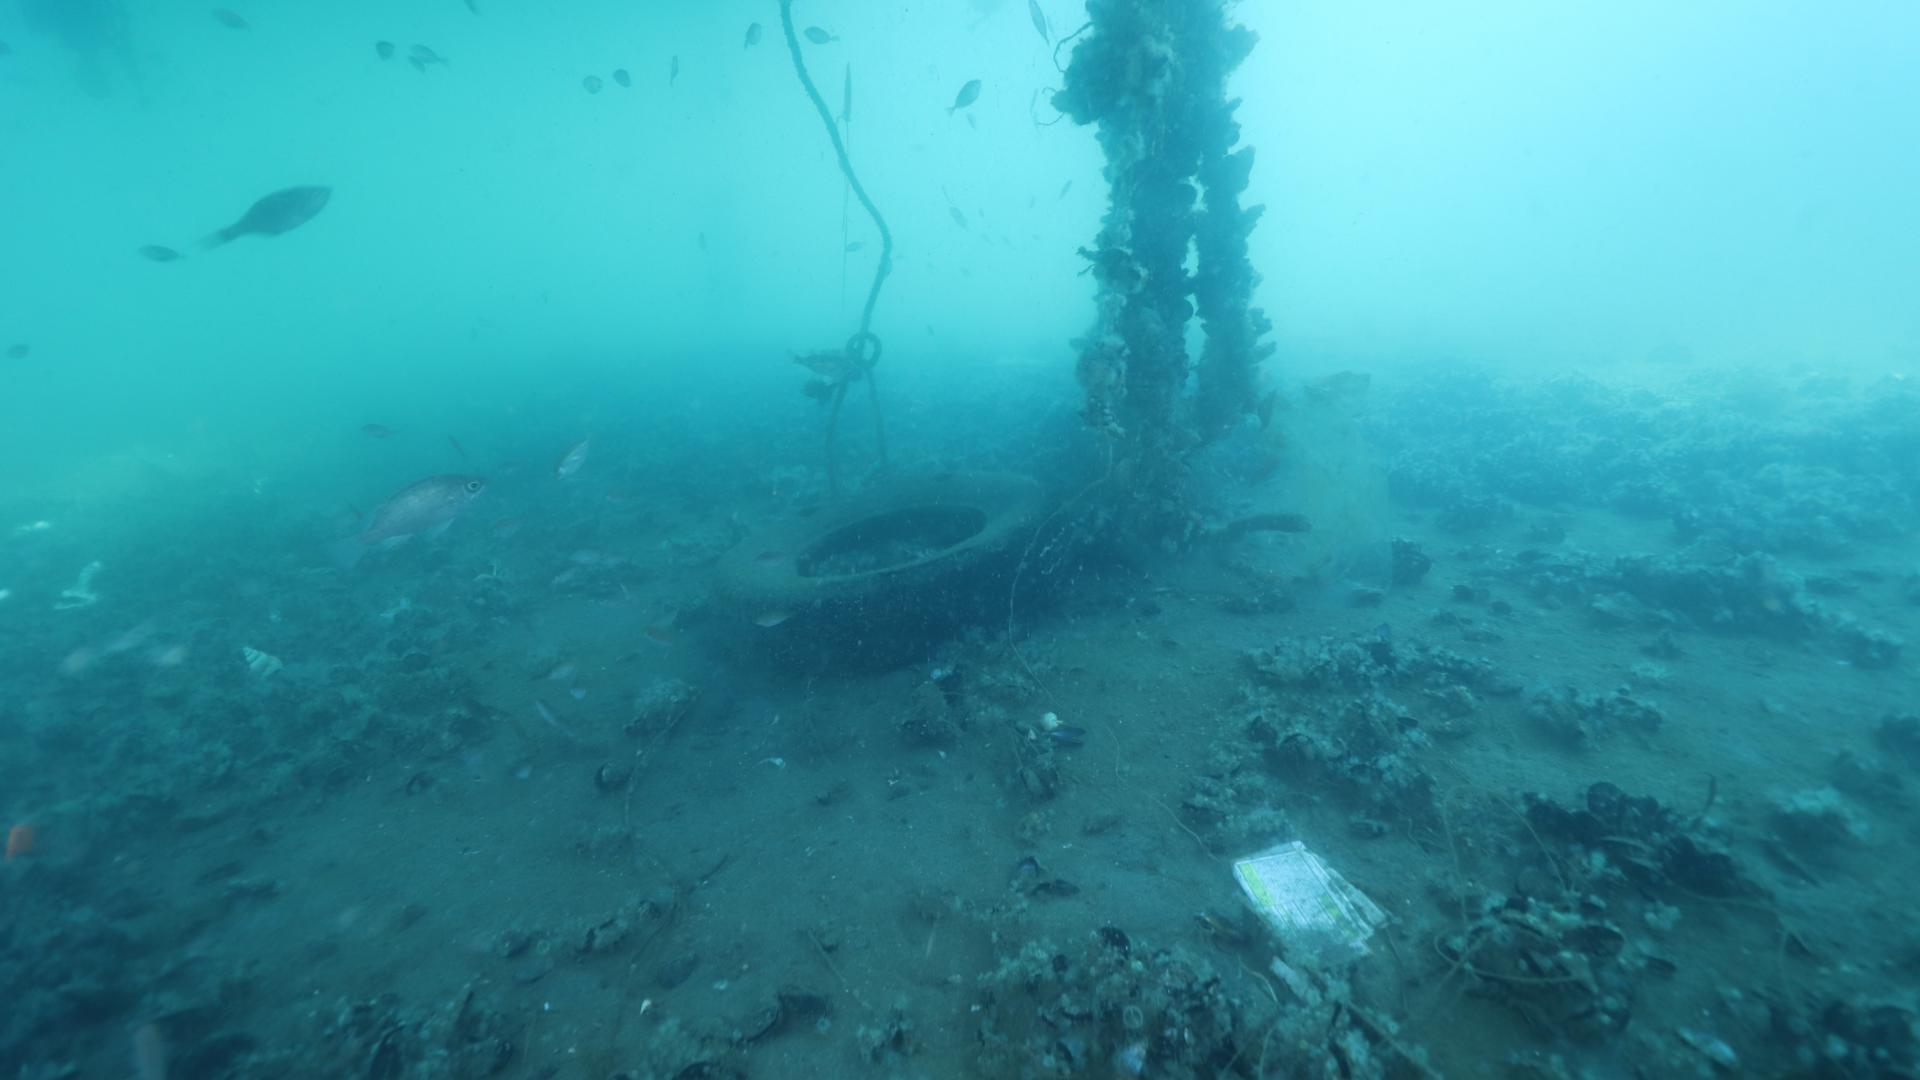bundle of ropes: (773, 0, 893, 524)
tire: (702, 477, 1056, 671)
